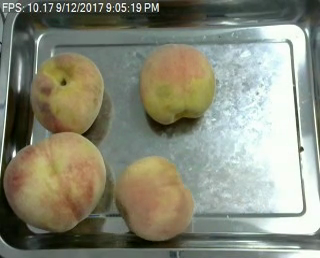Peach: (3, 132, 107, 234), (115, 154, 194, 242), (139, 42, 216, 124), (30, 52, 106, 135)
